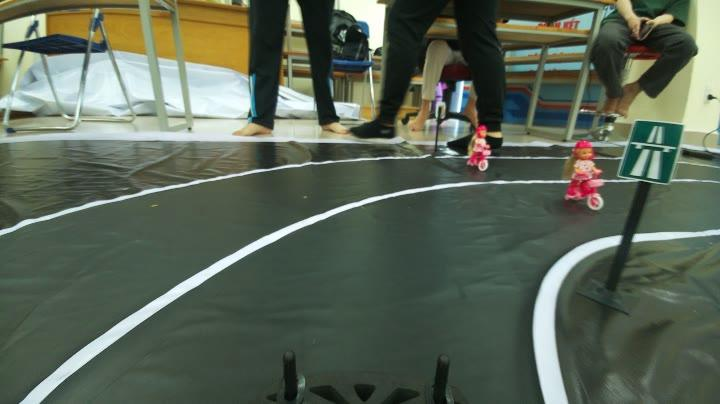highway_entry: (618, 114, 678, 190)
pedestrian: (560, 137, 610, 204)
